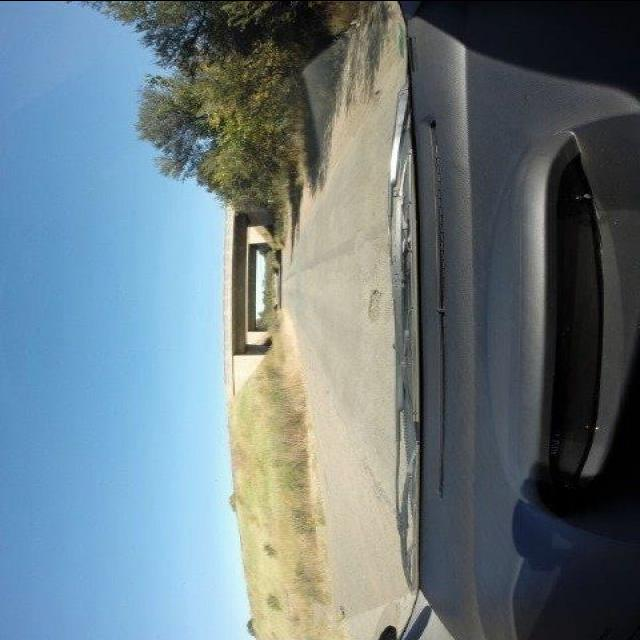lubang: (362, 287, 388, 329)
